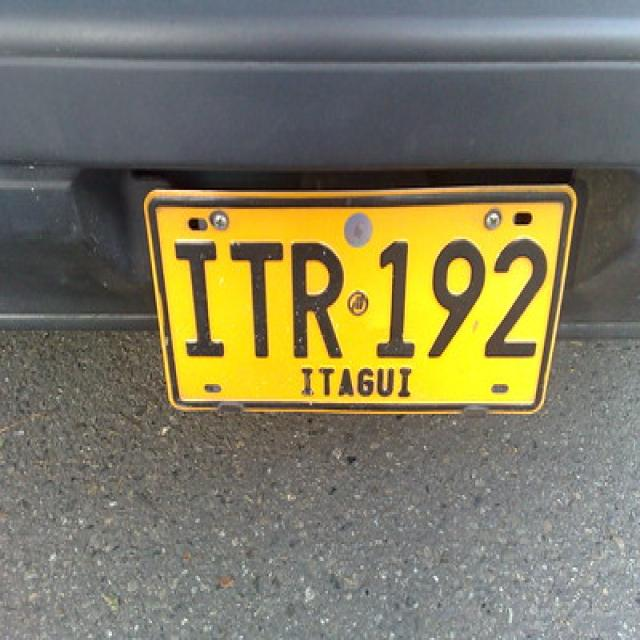placa_carro: (140, 175, 590, 433)
